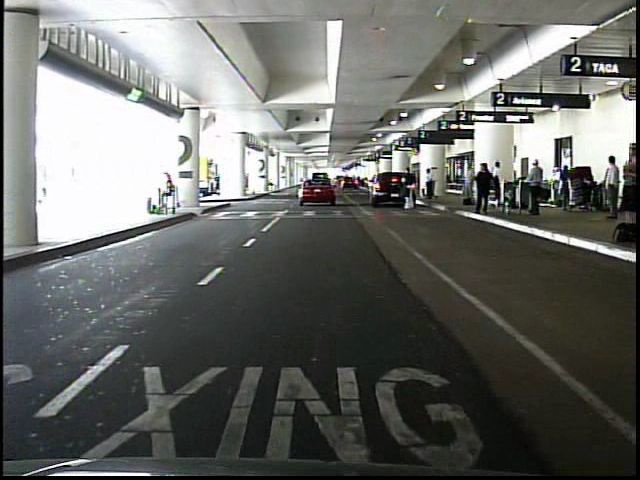person: (618, 145, 640, 224), (602, 156, 621, 220), (527, 158, 545, 217), (472, 159, 491, 214), (158, 172, 178, 219), (559, 163, 573, 209), (546, 168, 563, 205), (403, 166, 416, 212), (490, 161, 502, 202), (425, 168, 437, 203)
